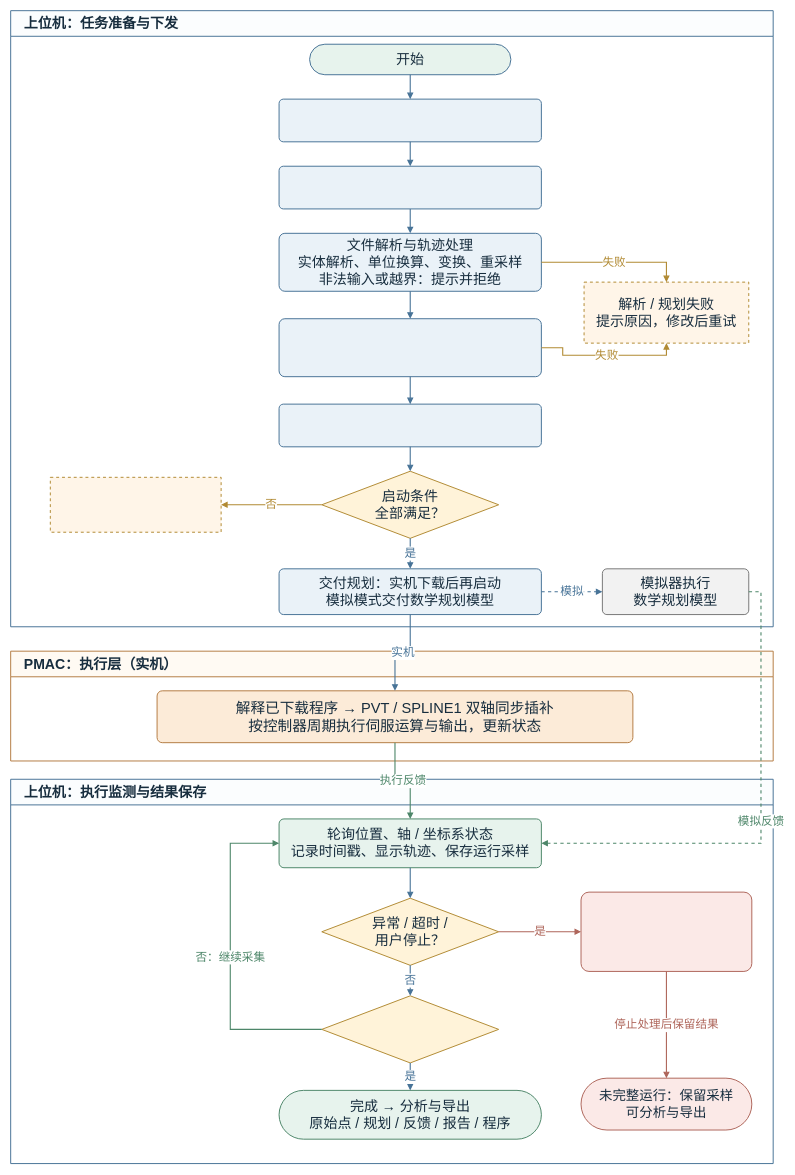
This 795x1175 diagram has some shape labels left out. The box of each missing label's shape, as (x1, y1, x2, y2) in pixels:
否：提示具体原因 重新配置或重新规划: (50, 477, 221, 532)
图形输入 自由绘图 / 典型图形 / ASCII DXF: (278, 165, 542, 209)
是：取消待执行动作 请求中止并等待新反馈确认 无法确认：保留锁定并提示: (580, 891, 752, 972)
正常完成条件 全部满足？: (321, 995, 499, 1063)
连接模拟 / 实机；核对并应用 轴映射、ct/mm、行程与设备参数: (278, 98, 542, 142)
速度规划与程序生成 PVT / SPLINE1；速度、加速度、时间 检查曲线极值、行程及容量: (278, 318, 542, 377)
预览程序并发起运行 复核连接、反馈、轴状态与规划起点: (278, 403, 542, 447)
